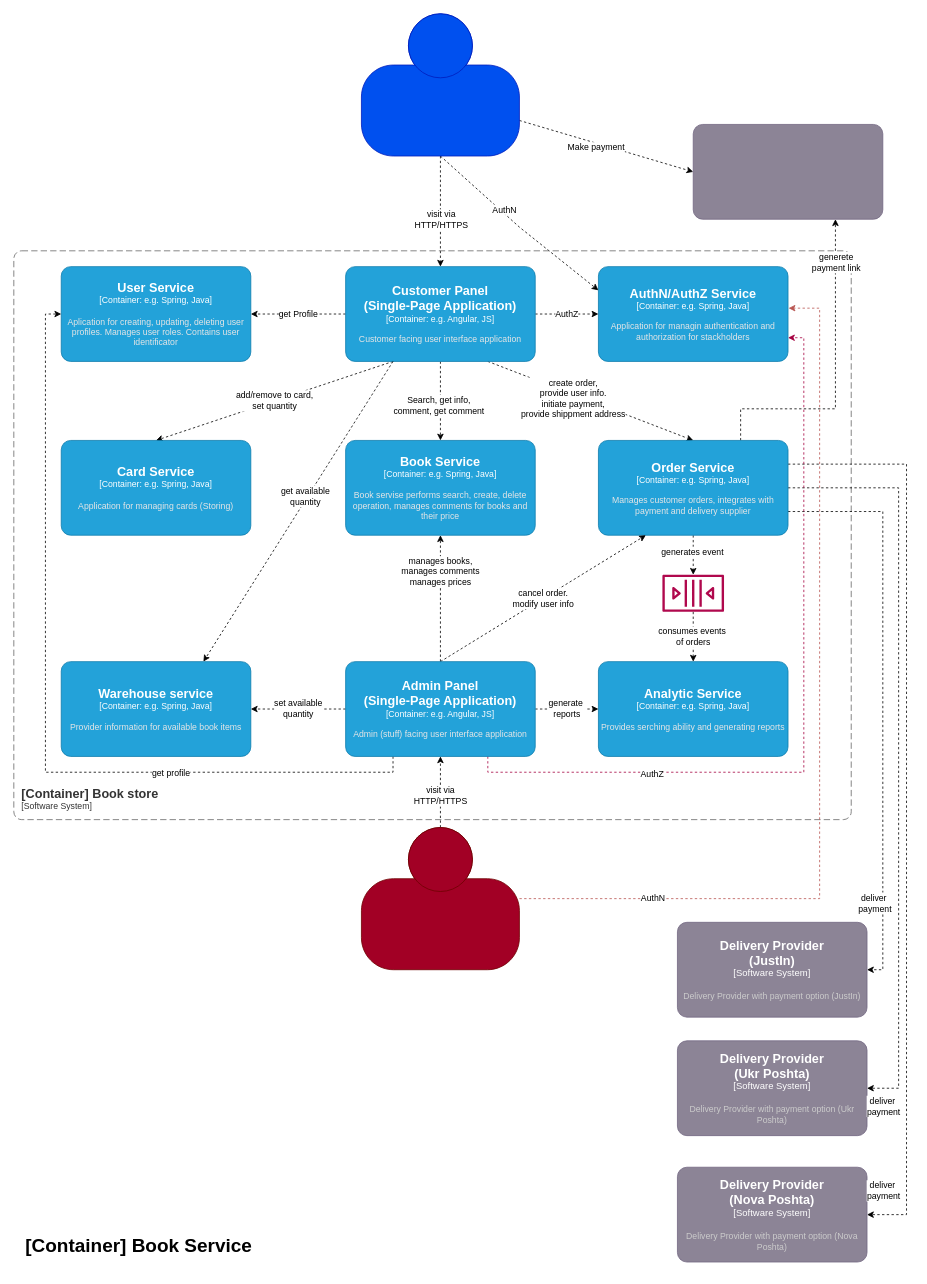
Some shapes in this 927 by 1284 pixel diagram are drawn without their labels. The shapes that lost their labels are listed below. From the top down, each one's centre as x and y in pixels, then its label:
the point at 440,84: Book store Customer [Person] Customer of the book store
the point at 787,171: Payment Service [Software System] Payment service to manage online payment
the point at 440,898: Book store Stuff [Person] Warehouse Stuff, Support, Analytic of the book store
